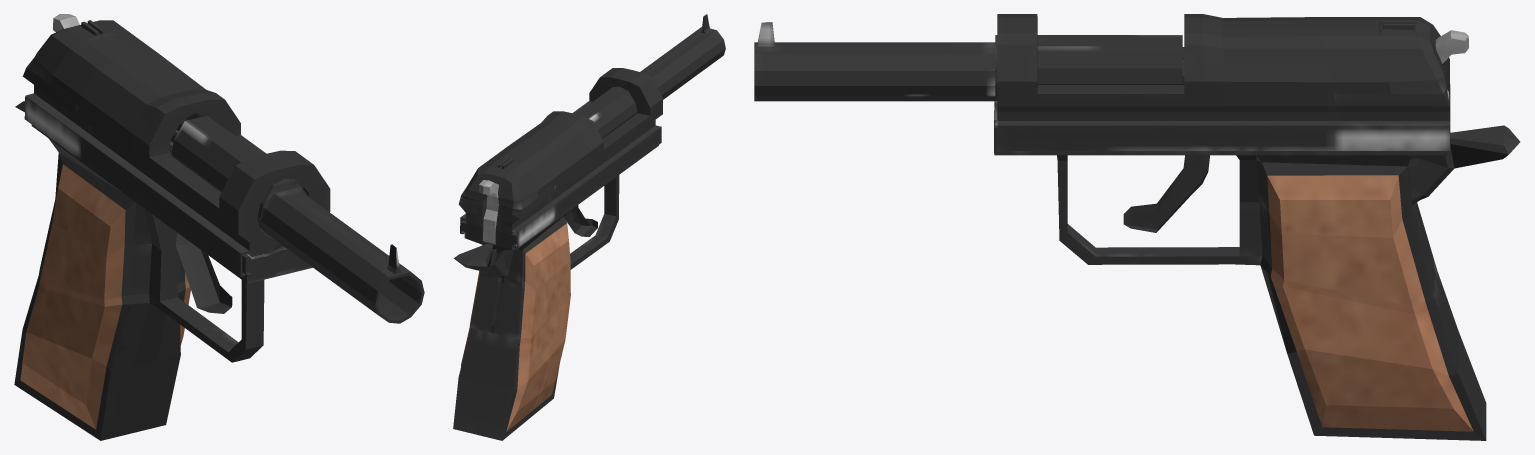
File: WalterP38.glb
3 renders of one model, left to right at view 1: azimuth 30°, elevation 25°; view 2: azimuth 150°, elevation 25°; view 3: azimuth 270°, elevation 25°, orthographic. The views are drawn at different scales.
Parts seen in each view (by area): view 1: P38Slide, P38Handle, P38Grip, P38Barrel, P38Trigger; view 2: P38Slide, P38Handle, P38Grip, P38Barrel, P38Cock, P38Trigger; view 3: P38Slide, P38Grip, P38Handle, P38Barrel, P38Trigger, P38Cock.
Part boxes in pixels (x1,y1,x2,y2): P38Slide: (22, 20, 330, 277); P38Handle: (14, 101, 312, 440); P38Grip: (20, 164, 190, 429); P38Barrel: (171, 115, 424, 323); P38Trigger: (175, 232, 232, 313); P38Slide: (459, 68, 662, 249); P38Handle: (453, 145, 658, 440); P38Grip: (461, 223, 570, 431); P38Barrel: (576, 14, 725, 138); P38Cock: (478, 180, 498, 243); P38Trigger: (565, 205, 597, 236); P38Slide: (997, 14, 1450, 151); P38Grip: (1267, 175, 1473, 431); P38Handle: (994, 125, 1520, 440); P38Barrel: (754, 22, 1182, 152); P38Trigger: (1123, 155, 1209, 232); P38Cock: (1435, 30, 1468, 101).
Size of the model in its own units: 0.0395 by 0.1418 by 0.2465.
6 materials, 6 textured.
